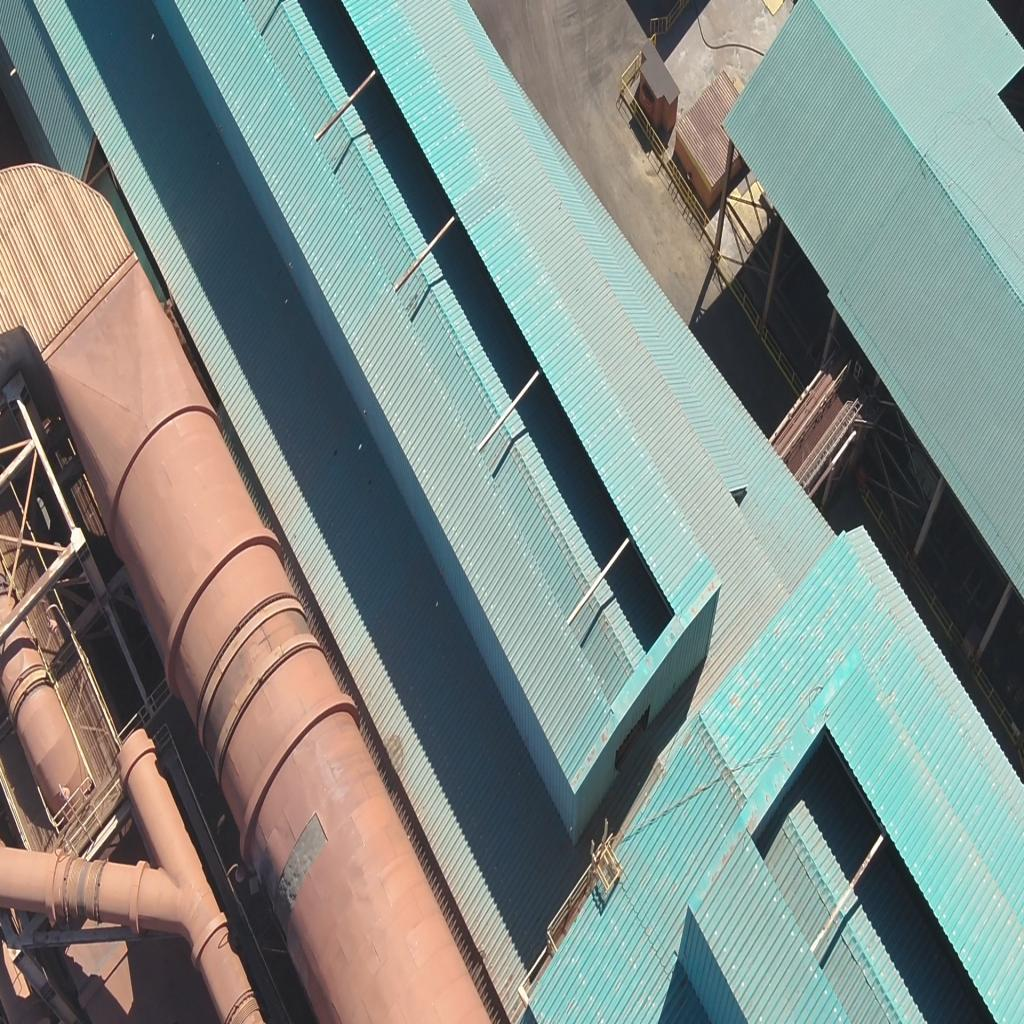Failures: (275, 813, 328, 918)
